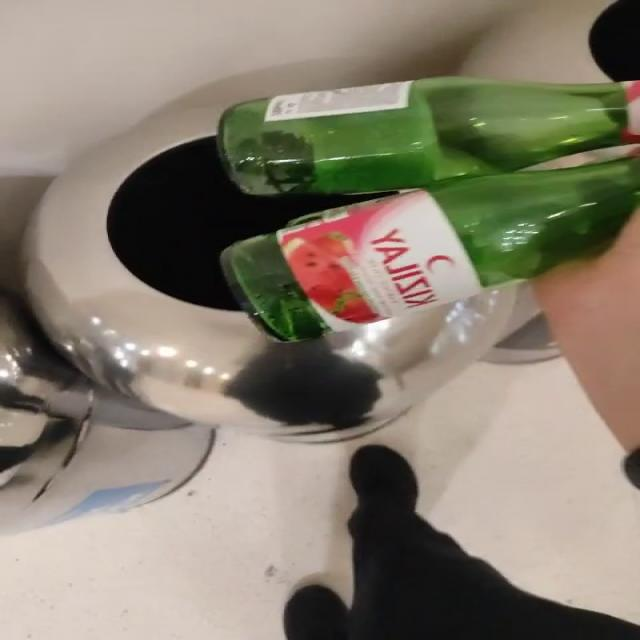bin: (0, 60, 516, 534)
glass: (219, 76, 640, 341)
